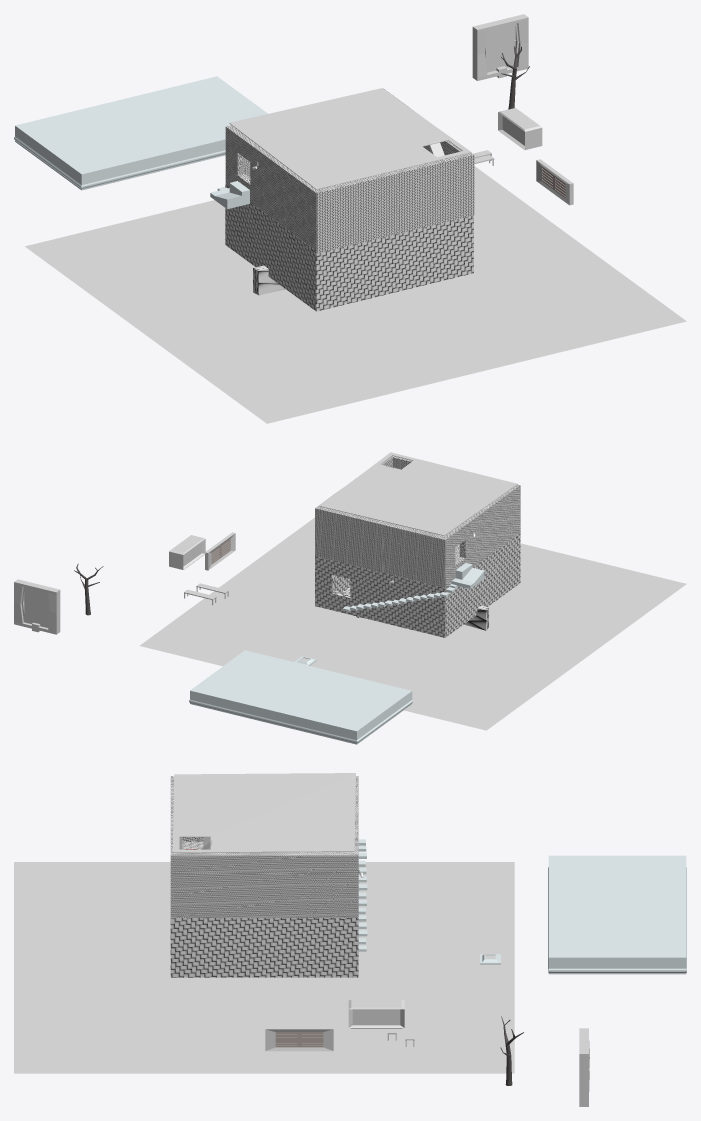
The model's file is Space1 1.fbx.
3 renders of one model, top to bottom at view 1: azimuth 30°, elevation 25°; view 2: azimuth 150°, elevation 25°; view 3: azimuth 270°, elevation 25°, orthographic. The views are drawn at different scales.
Parts seen in each view (by area): view 1: Plane.003, Room2WALLS, Cube.003, Room1floor, Roof 2nd floor, Cube, Cube.012, Cube.005, Cube.013, Cube.018; view 2: Plane.003, Cube.003, Room2WALLS, Room1floor, Roof 2nd floor, Cube, Cube.012, Cube.005, Cube.013, Stairsoutside, Cube.018; view 3: Plane.003, Cube.003, Roof 2nd floor, Room2WALLS, Room1floor, Cube.013, Cube.012, Stairsoutside, Cube.
Part boxes in pixels (x1,y1,x2,y2): Plane.003: (25,166,686,423); Room2WALLS: (225,88,474,253); Cube.003: (14,76,267,190); Room1floor: (225,185,473,311); Roof 2nd floor: (229,88,471,189); Cube: (472,14,528,80); Cube.012: (498,108,542,149); Cube.005: (485,23,515,72); Cube.013: (536,159,573,205); Cube.018: (210,181,249,209); Plane.003: (139,517,686,730); Cube.003: (189,650,412,744); Room2WALLS: (315,456,520,587); Room1floor: (315,533,520,637); Roof 2nd floor: (320,452,517,535); Cube: (14,579,60,634); Cube.012: (169,535,205,569); Cube.005: (24,587,49,627); Cube.013: (205,532,235,570); Stairsoutside: (342,584,458,611); Cube.018: (451,563,484,588); Plane.003: (14,862,514,1073); Cube.003: (548,855,686,974); Roof 2nd floor: (172,773,355,852); Room2WALLS: (170,776,358,917); Room1floor: (170,918,358,977); Cube.013: (265,1027,333,1051); Cube.012: (348,999,404,1028); Stairsoutside: (358,839,367,951); Cube: (579,1028,589,1106).
Bounding box in the file's own units: 13274 × 3521 × 13989.
